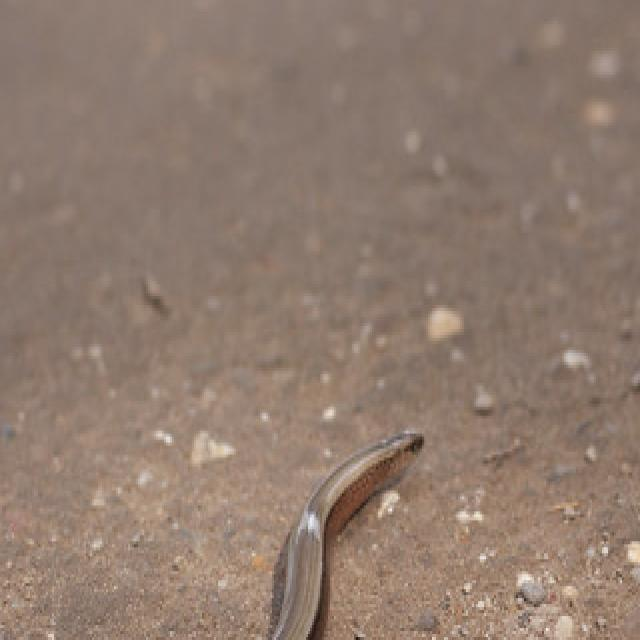Snake: (0, 421, 424, 640)
